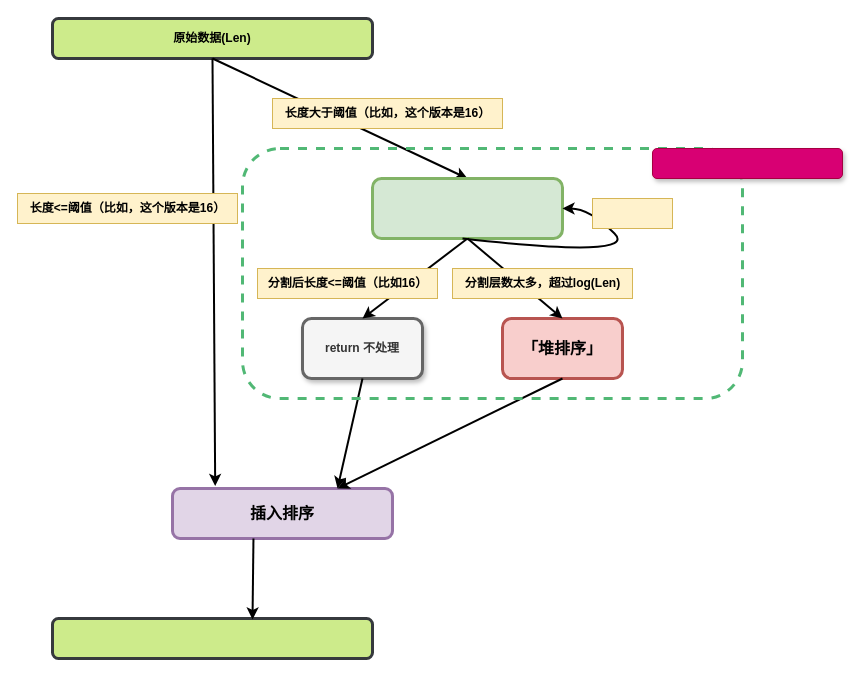
Image size: 866x677. Some labels were removed from this diagram. The shapes that lost their labels are listed below. From the top down, each one's centre as x and y in pixels, then its label:
At pixel 748 165: "内省排序（introSort）".
At pixel 467 208: "「快速排序」 -->进行数据分段".
At pixel 632 213: "递归的进行".
At pixel 212 638: "完成排序".
